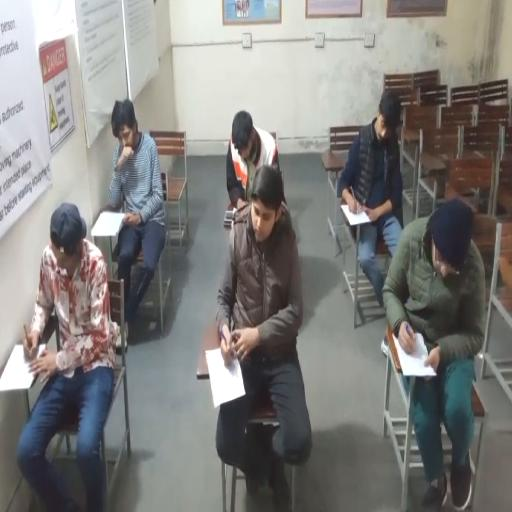paper: (205, 346, 244, 408), (396, 329, 436, 377), (0, 343, 37, 392), (92, 210, 128, 238), (340, 202, 371, 226), (222, 203, 238, 226)
